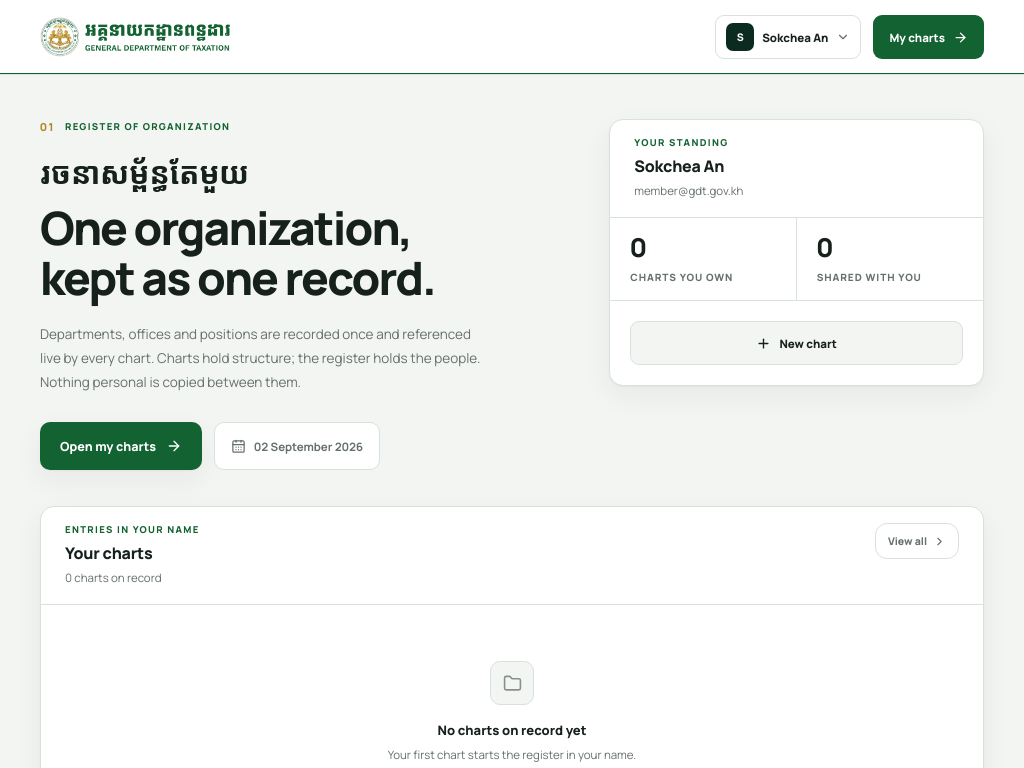
Test: LandingTestPage (register) › shows a recoverable error when logout fails
The width and height of the screenshot is (1024, 768).
Click the button "S Sokchea An".
click(788, 37)  # box [715,15,861,59]
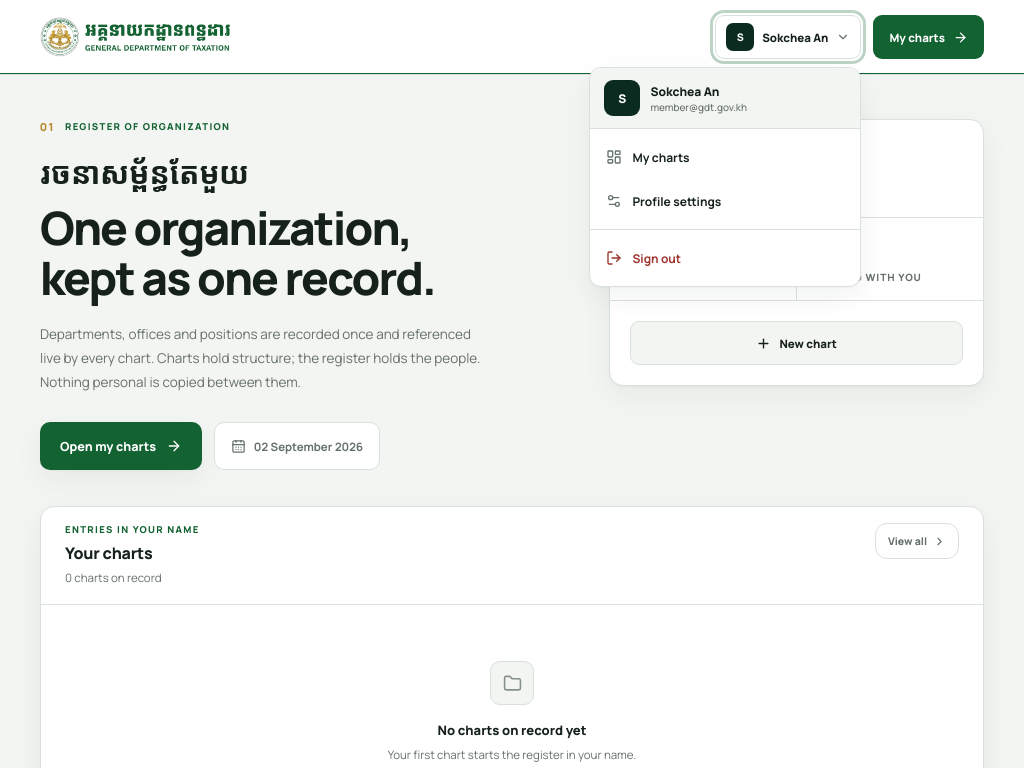
Click the button "Sign out".
click(725, 258)  # box [596,236,854,280]
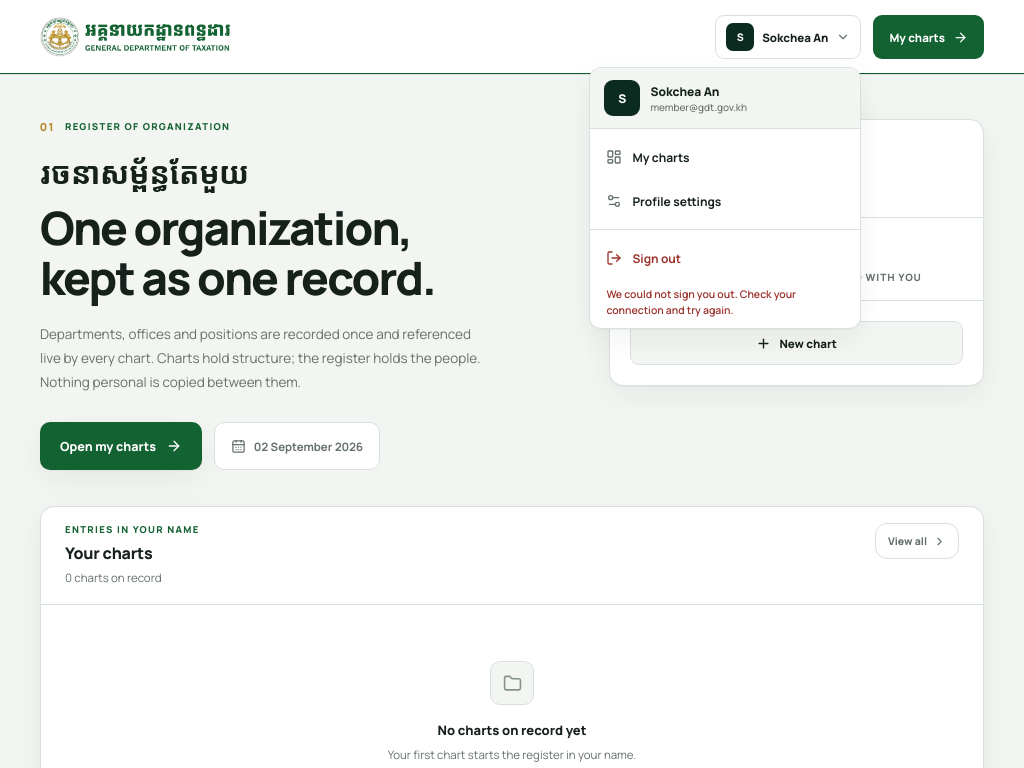
Result: the button "Sign out" is enabled at [596,236,854,280]
Result: the message reads "We could not sign you out. Check your connection and try again." at [606,287,796,317]
